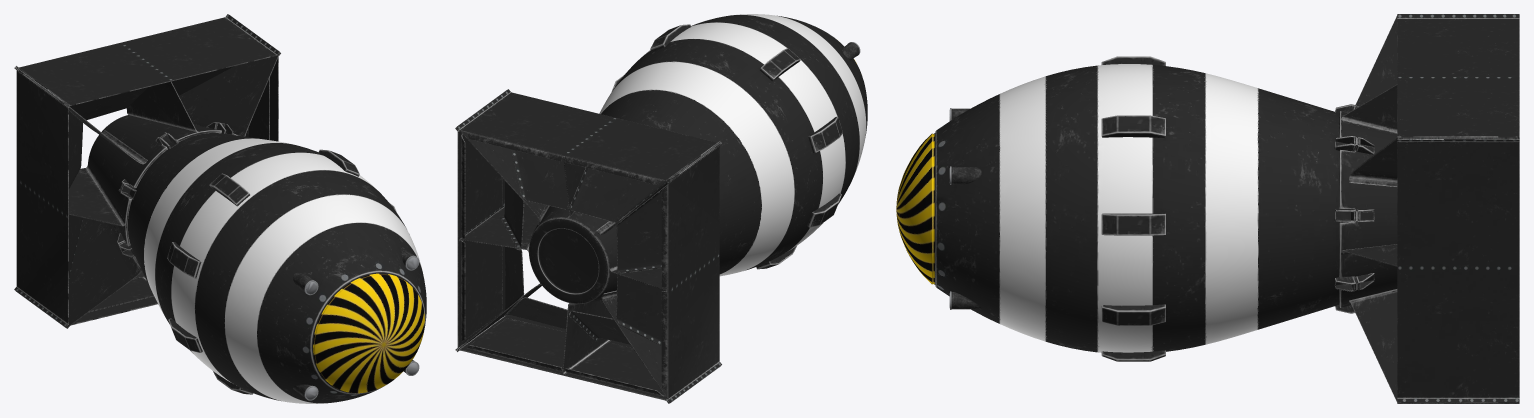
File: fat_man_bomb.optimized.glb
3 views of the same model, side by side, from view 1: azimuth 30°, elevation 25°; view 2: azimuth 150°, elevation 25°; view 3: azimuth 270°, elevation 25° (orthographic). The views are drawn at different scales.
Visible parts, largest first — view 1: defaultMaterial_5, defaultMaterial, defaultMaterial_4, defaultMaterial_1, defaultMaterial_6, defaultMaterial_2; view 2: defaultMaterial, defaultMaterial_5, defaultMaterial_4, defaultMaterial_1; view 3: defaultMaterial_5, defaultMaterial, defaultMaterial_4, defaultMaterial_1, defaultMaterial_2, defaultMaterial_6.
Part boxes in pixels (left/top/right/bottom): defaultMaterial_5: left=128, top=133, right=426, bottom=403; defaultMaterial: left=14, top=14, right=280, bottom=328; defaultMaterial_4: left=88, top=115, right=237, bottom=267; defaultMaterial_1: left=167, top=149, right=396, bottom=394; defaultMaterial_6: left=293, top=247, right=419, bottom=400; defaultMaterial_2: left=117, top=122, right=233, bottom=257; defaultMaterial: left=455, top=89, right=721, bottom=403; defaultMaterial_5: left=599, top=14, right=867, bottom=276; defaultMaterial_4: left=529, top=206, right=617, bottom=303; defaultMaterial_1: left=611, top=24, right=842, bottom=269; defaultMaterial_5: left=896, top=64, right=1353, bottom=352; defaultMaterial: left=1341, top=14, right=1519, bottom=403; defaultMaterial_4: left=1339, top=111, right=1397, bottom=307; defaultMaterial_1: left=1101, top=56, right=1165, bottom=361; defaultMaterial_2: left=1334, top=104, right=1374, bottom=313; defaultMaterial_6: left=949, top=108, right=981, bottom=309.
Size of the model in its own units: 0.9474 by 0.9474 by 2.
Materials: 6 (6 with a texture image).
